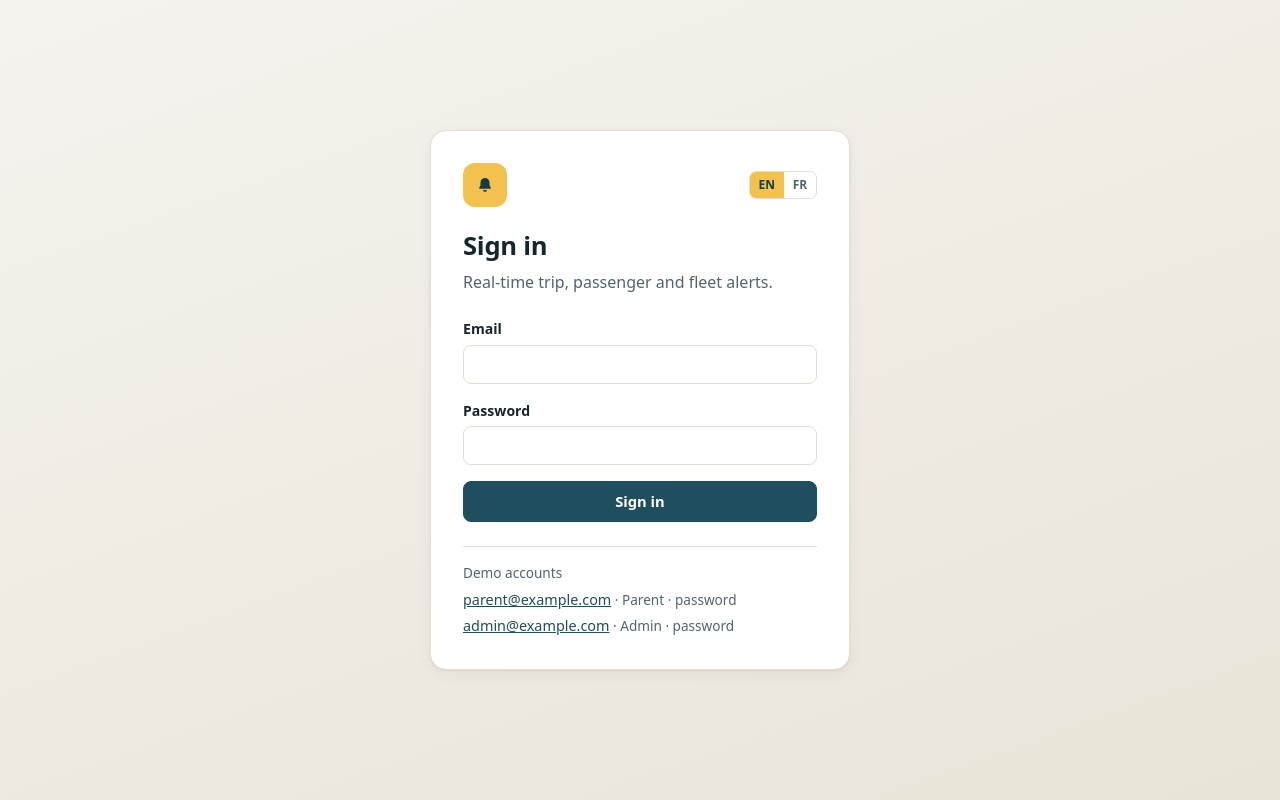
LoginPage › logs in, stores the token and opens the inbox
Type "parent@example.com" into the field labelled "Email" at {"x": 640, "y": 364}, box x1=463 y1=344 x2=817 y2=384
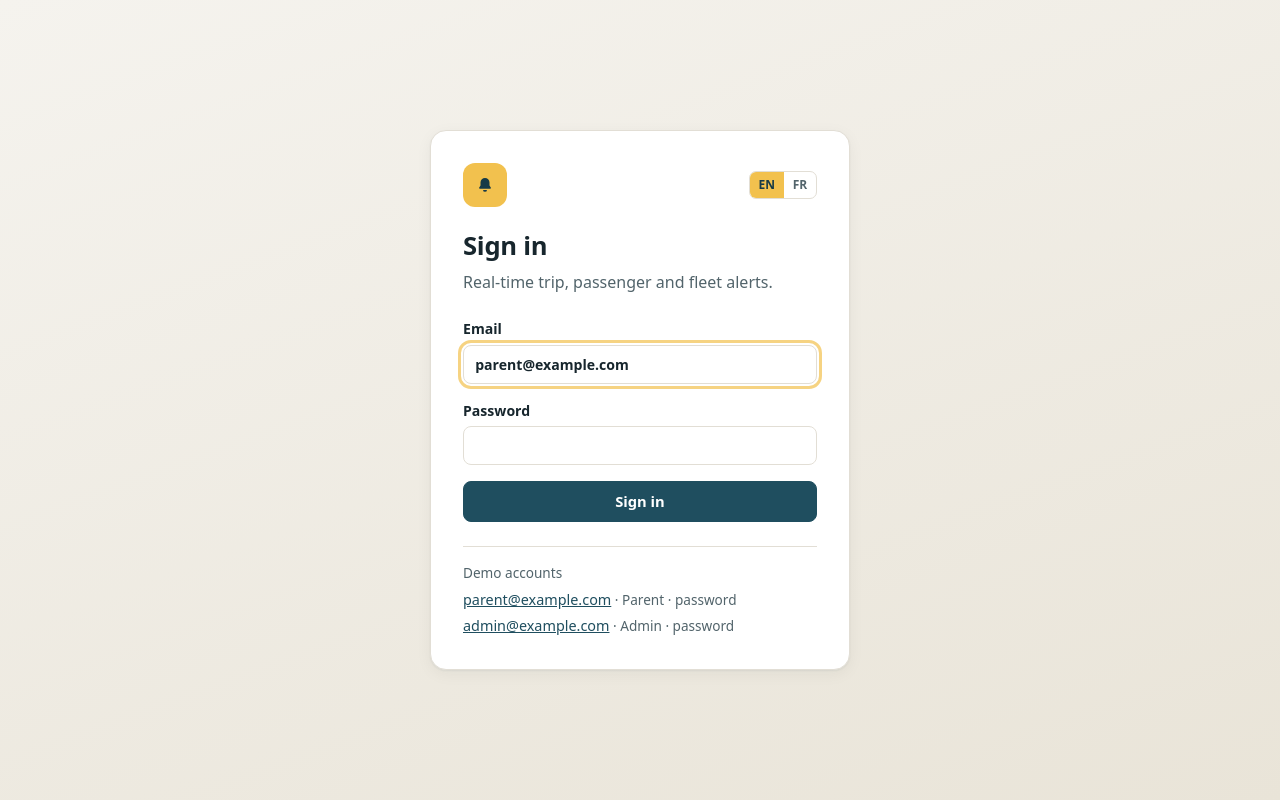
Type "password" into the password field labelled "Password" at {"x": 640, "y": 446}, box x1=463 y1=426 x2=817 y2=466
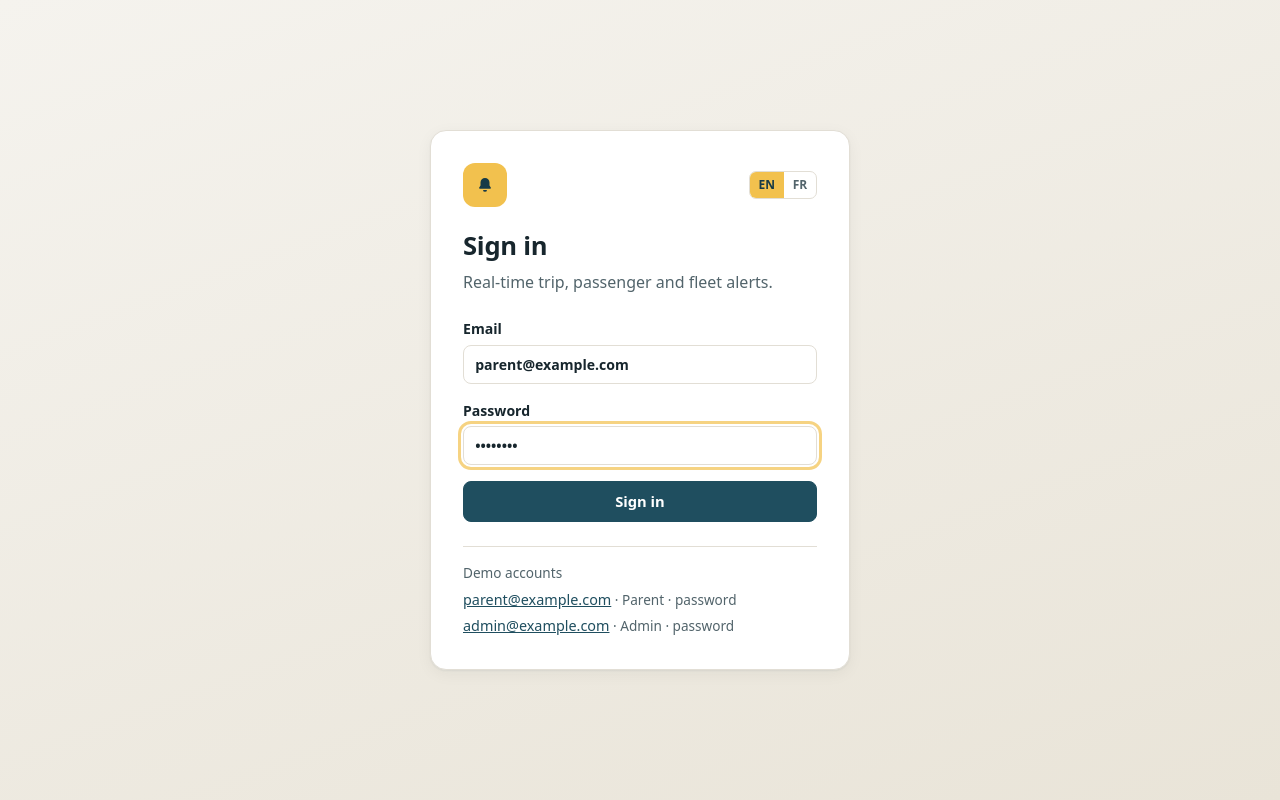
Click the button "Sign in" at {"x": 640, "y": 502}, box x1=463 y1=482 x2=817 y2=522
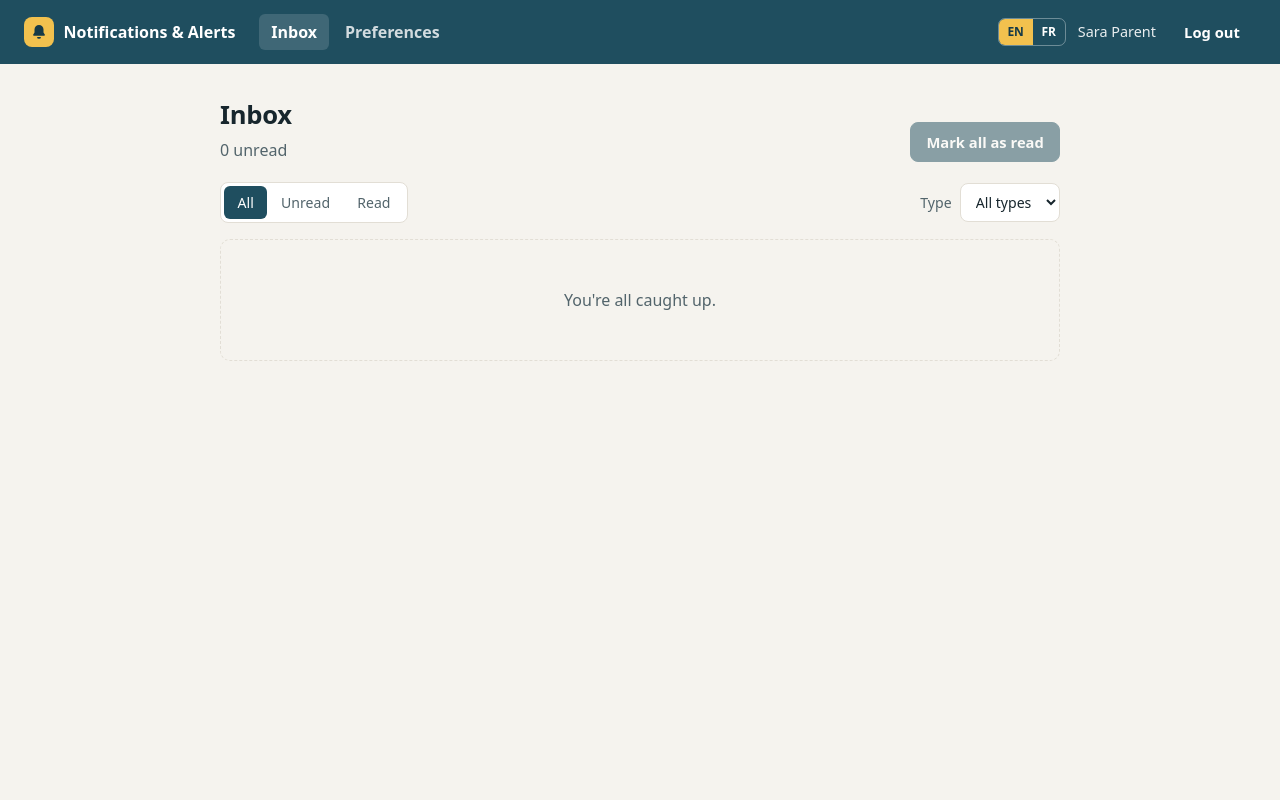
Expected: the heading "Inbox" is shown, x1=220 y1=96 x2=292 y2=134
Expected: the text "Sara Parent" is shown, x1=1078 y1=21 x2=1156 y2=43
